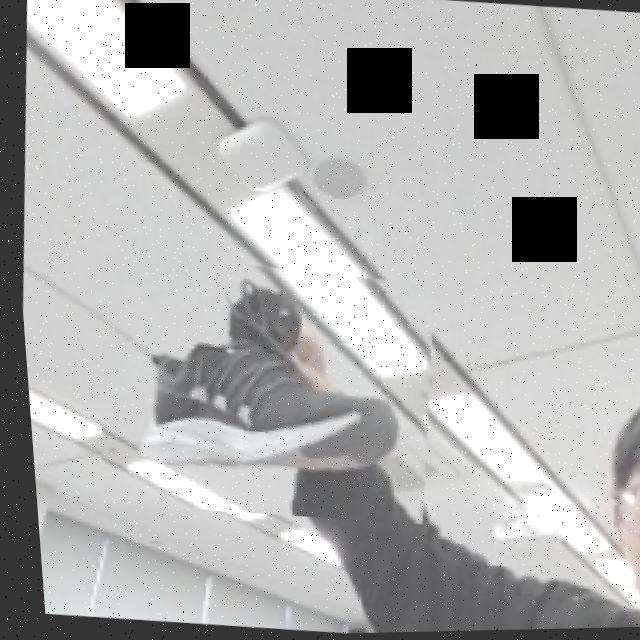shoe: (78, 243, 446, 532)
